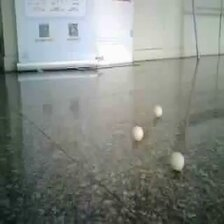tennis: (171, 94, 191, 120), (47, 58, 61, 78), (109, 69, 124, 87), (124, 53, 135, 67)
